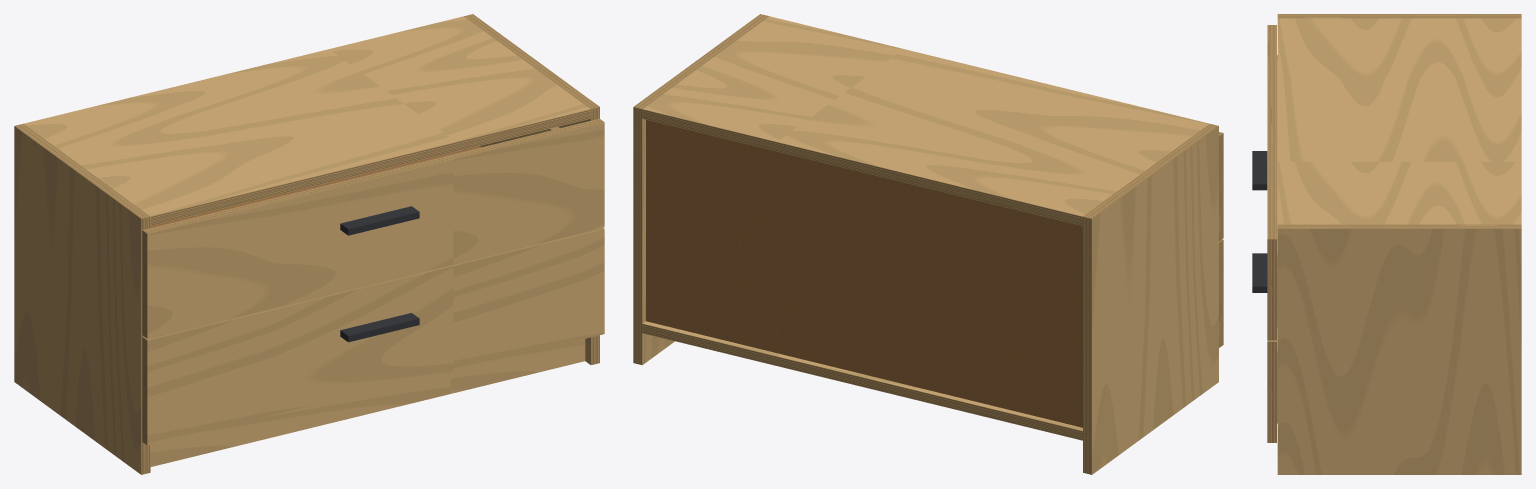
File: HIN-BCH-std.glb
3 renders of one model, left to right at view 1: azimuth 30°, elevation 25°; view 2: azimuth 150°, elevation 25°; view 3: azimuth 270°, elevation 25°, orthographic. The views are drawn at different scales.
Visible parts, largest first — view 1: top:sheet:eyJtIjoicGx5Iiwic2lkZSI6ImZhY2UiLCJzZWVkIjo2LCJ2ZW, d2-front:sheet:eyJtIjoicGx5Iiwic2lkZSI6ImZhY2UiLCJzZWVkIjo2L, d1-front:sheet:eyJtIjoicGx5Iiwic2lkZSI6ImZhY2UiLCJzZWVkIjoyL, side-l:sheet:eyJtIjoicGx5Iiwic2lkZSI6ImZhY2UiLCJzZWVkIjoxLCJ, plinth:sheet:eyJtIjoicGx5Iiwic2lkZSI6ImZhY2UiLCJzZWVkIjozLCJ, top:sheet:eyJtIjoicGx5Iiwic2lkZSI6ImVkZ2UtbG9uZyIsInNlZWQiOj, d2-front:sheet:eyJtIjoicGx5Iiwic2lkZSI6ImVkZ2UtbG9uZyIsInNlZ, pull, side-l:sheet:eyJtIjoicGx5Iiwic2lkZSI6ImVkZ2UtZW5kIiwic2VlZCI, side-r:sheet:eyJtIjoicGx5Iiwic2lkZSI6ImVkZ2UtZW5kIiwic2VlZCI, d1-front:sheet:eyJtIjoicGx5Iiwic2lkZSI6ImVkZ2UtbG9uZyIsInNlZ, side-l:sheet:eyJtIjoicGx5Iiwic2lkZSI6ImVkZ2UtbG9uZyIsInNlZWQ (+3 smaller); view 2: back:sheet:eyJtIjoibWRmIiwic2lkZSI6ImZhY2UiLCJzZWVkIjo0LCJ0a, top:sheet:eyJtIjoicGx5Iiwic2lkZSI6ImZhY2UiLCJzZWVkIjo2LCJ2ZW, side-l:sheet:eyJtIjoicGx5Iiwic2lkZSI6ImZhY2UiLCJzZWVkIjoxLCJ, bottom:sheet:eyJtIjoicGx5Iiwic2lkZSI6ImVkZ2UtbG9uZyIsInNlZWQ, top:sheet:eyJtIjoicGx5Iiwic2lkZSI6ImVkZ2UtbG9uZyIsInNlZWQiOj, side-r:sheet:eyJtIjoicGx5Iiwic2lkZSI6ImVkZ2UtbG9uZyIsInNlZWQ, side-l:sheet:eyJtIjoicGx5Iiwic2lkZSI6ImVkZ2UtbG9uZyIsInNlZWQ, bottom:sheet:eyJtIjoicGx5Iiwic2lkZSI6ImZhY2UiLCJzZWVkIjowLCJ, side-r:sheet:eyJtIjoicGx5Iiwic2lkZSI6ImZhY2UiLCJzZWVkIjozLCJ, side-r:sheet:eyJtIjoicGx5Iiwic2lkZSI6ImVkZ2UtZW5kIiwic2VlZCI, side-l:sheet:eyJtIjoicGx5Iiwic2lkZSI6ImVkZ2UtZW5kIiwic2VlZCI; view 3: side-r:sheet:eyJtIjoicGx5Iiwic2lkZSI6ImZhY2UiLCJzZWVkIjozLCJ, top:sheet:eyJtIjoicGx5Iiwic2lkZSI6ImZhY2UiLCJzZWVkIjo2LCJ2ZW, d2-front:sheet:eyJtIjoicGx5Iiwic2lkZSI6ImVkZ2UtbG9uZyIsInNlZ, pull, side-l:sheet:eyJtIjoicGx5Iiwic2lkZSI6ImVkZ2UtZW5kIiwic2VlZCI, side-r:sheet:eyJtIjoicGx5Iiwic2lkZSI6ImVkZ2UtZW5kIiwic2VlZCI, d2-front:sheet:eyJtIjoicGx5Iiwic2lkZSI6ImVkZ2UtZW5kIiwic2VlZ, d1-front:sheet:eyJtIjoicGx5Iiwic2lkZSI6ImVkZ2UtZW5kIiwic2VlZ.
Boxes of the visible parts, x1,y1,x2,y2 form: top:sheet:eyJtIjoicGx5Iiwic2lkZSI6ImZhY2UiLCJzZWVkIjo2LCJ2ZW: (24, 16, 590, 216); d2-front:sheet:eyJtIjoicGx5Iiwic2lkZSI6ImZhY2UiLCJzZWVkIjo2L: (147, 122, 604, 338); d1-front:sheet:eyJtIjoicGx5Iiwic2lkZSI6ImZhY2UiLCJzZWVkIjoyL: (147, 229, 604, 445); side-l:sheet:eyJtIjoicGx5Iiwic2lkZSI6ImZhY2UiLCJzZWVkIjoxLCJ: (14, 126, 141, 474); plinth:sheet:eyJtIjoicGx5Iiwic2lkZSI6ImZhY2UiLCJzZWVkIjozLCJ: (150, 339, 585, 466); top:sheet:eyJtIjoicGx5Iiwic2lkZSI6ImVkZ2UtbG9uZyIsInNlZWQiOj: (150, 109, 590, 225); d2-front:sheet:eyJtIjoicGx5Iiwic2lkZSI6ImVkZ2UtbG9uZyIsInNlZ: (142, 118, 603, 233); pull: (340, 206, 419, 342); side-l:sheet:eyJtIjoicGx5Iiwic2lkZSI6ImVkZ2UtZW5kIiwic2VlZCI: (15, 123, 149, 218); side-r:sheet:eyJtIjoicGx5Iiwic2lkZSI6ImVkZ2UtZW5kIiwic2VlZCI: (464, 14, 599, 108); d1-front:sheet:eyJtIjoicGx5Iiwic2lkZSI6ImVkZ2UtbG9uZyIsInNlZ: (143, 228, 603, 340); side-l:sheet:eyJtIjoicGx5Iiwic2lkZSI6ImVkZ2UtbG9uZyIsInNlZWQ: (141, 216, 150, 474); back:sheet:eyJtIjoibWRmIiwic2lkZSI6ImZhY2UiLCJzZWVkIjo0LCJ0a: (646, 120, 1082, 427); top:sheet:eyJtIjoicGx5Iiwic2lkZSI6ImZhY2UiLCJzZWVkIjo2LCJ2ZW: (643, 16, 1209, 216); side-l:sheet:eyJtIjoicGx5Iiwic2lkZSI6ImZhY2UiLCJzZWVkIjoxLCJ: (1092, 126, 1218, 474); bottom:sheet:eyJtIjoicGx5Iiwic2lkZSI6ImVkZ2UtbG9uZyIsInNlZWQ: (642, 323, 1082, 440); top:sheet:eyJtIjoicGx5Iiwic2lkZSI6ImVkZ2UtbG9uZyIsInNlZWQiOj: (642, 109, 1082, 226); side-r:sheet:eyJtIjoicGx5Iiwic2lkZSI6ImVkZ2UtbG9uZyIsInNlZWQ: (633, 107, 642, 364); side-l:sheet:eyJtIjoicGx5Iiwic2lkZSI6ImVkZ2UtbG9uZyIsInNlZWQ: (1083, 217, 1091, 474); bottom:sheet:eyJtIjoicGx5Iiwic2lkZSI6ImZhY2UiLCJzZWVkIjowLCJ: (643, 321, 1082, 430); side-r:sheet:eyJtIjoicGx5Iiwic2lkZSI6ImZhY2UiLCJzZWVkIjozLCJ: (642, 119, 674, 364); side-r:sheet:eyJtIjoicGx5Iiwic2lkZSI6ImVkZ2UtZW5kIiwic2VlZCI: (634, 14, 769, 109); side-l:sheet:eyJtIjoicGx5Iiwic2lkZSI6ImVkZ2UtZW5kIiwic2VlZCI: (1083, 124, 1218, 218); side-r:sheet:eyJtIjoicGx5Iiwic2lkZSI6ImZhY2UiLCJzZWVkIjozLCJ: (1277, 229, 1521, 474); top:sheet:eyJtIjoicGx5Iiwic2lkZSI6ImZhY2UiLCJzZWVkIjo2LCJ2ZW: (1277, 18, 1521, 224); d2-front:sheet:eyJtIjoicGx5Iiwic2lkZSI6ImVkZ2UtbG9uZyIsInNlZ: (1267, 25, 1276, 239); pull: (1252, 151, 1267, 292); side-l:sheet:eyJtIjoicGx5Iiwic2lkZSI6ImVkZ2UtZW5kIiwic2VlZCI: (1277, 14, 1521, 18); side-r:sheet:eyJtIjoicGx5Iiwic2lkZSI6ImVkZ2UtZW5kIiwic2VlZCI: (1277, 224, 1521, 228); d2-front:sheet:eyJtIjoicGx5Iiwic2lkZSI6ImVkZ2UtZW5kIiwic2VlZ: (1267, 239, 1276, 340); d1-front:sheet:eyJtIjoicGx5Iiwic2lkZSI6ImVkZ2UtZW5kIiwic2VlZ: (1267, 342, 1276, 442).
Size of the model in its own units: 0.9 by 0.48 by 0.4769.
55 materials, 54 textured.
